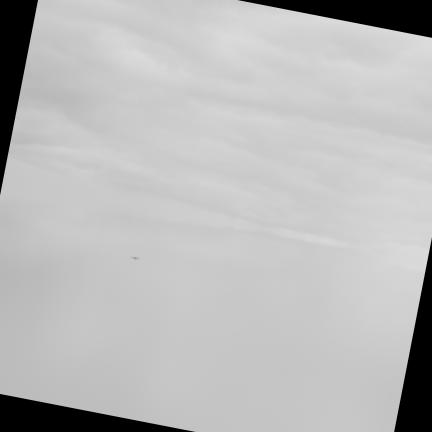Shahed: (130, 256, 142, 261)
